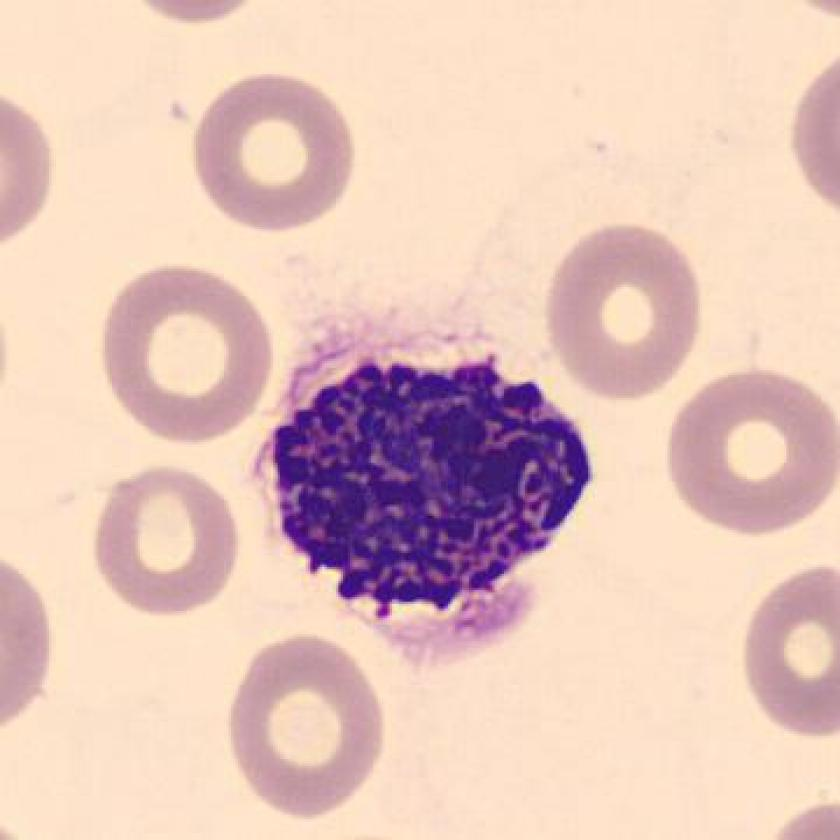basophil: (260, 337, 594, 640)
